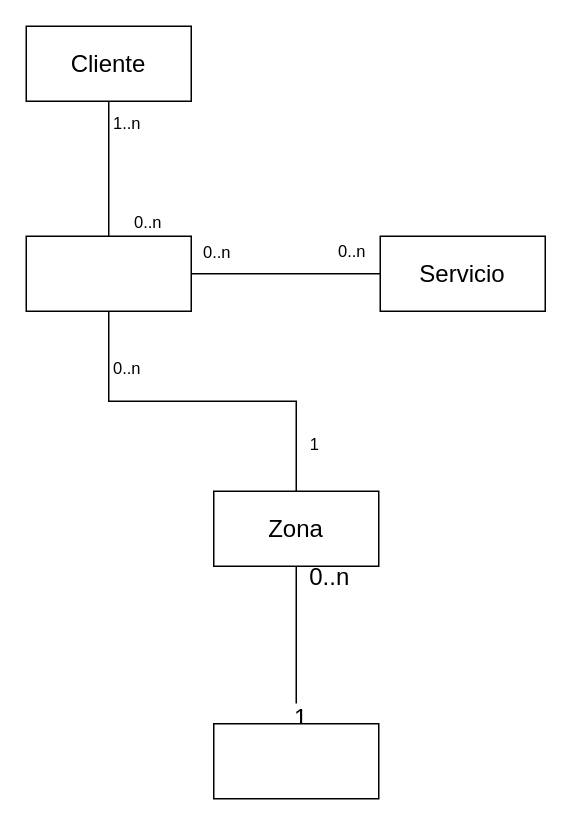
This 572x825 diagram has some shape labels left out. Each missing label, with the box of its shape:
Reserva: (25, 235, 191, 311)
Restaurante: (212, 722, 379, 799)
